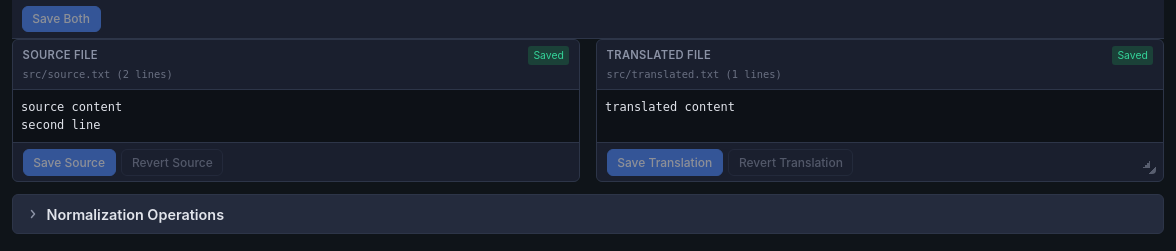
PairFileViewPanel › dirty state › Revert Translation clears dirty state for translated
The width and height of the screenshot is (1176, 251).
Edit translated
Replace the text in the text box below "src/translated.txt" with "modified translation" at {"x": 880, "y": 116}, box left=597, top=90, right=1163, bottom=142
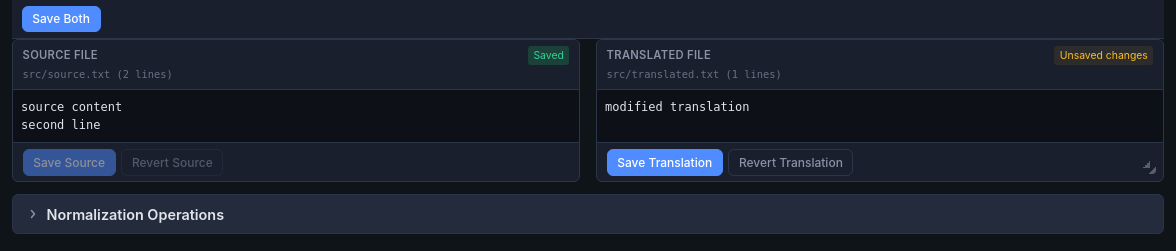
Click the button "Revert Translation" at {"x": 791, "y": 162}, box left=728, top=149, right=853, bottom=176
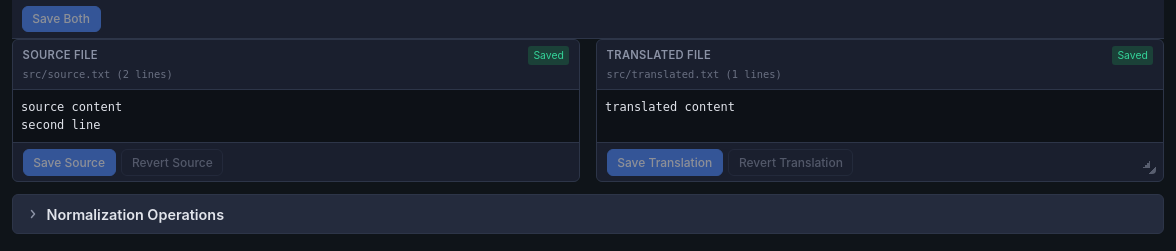
Check: the text box below "src/translated.txt" holds "translated content", box left=597, top=90, right=1163, bottom=142
